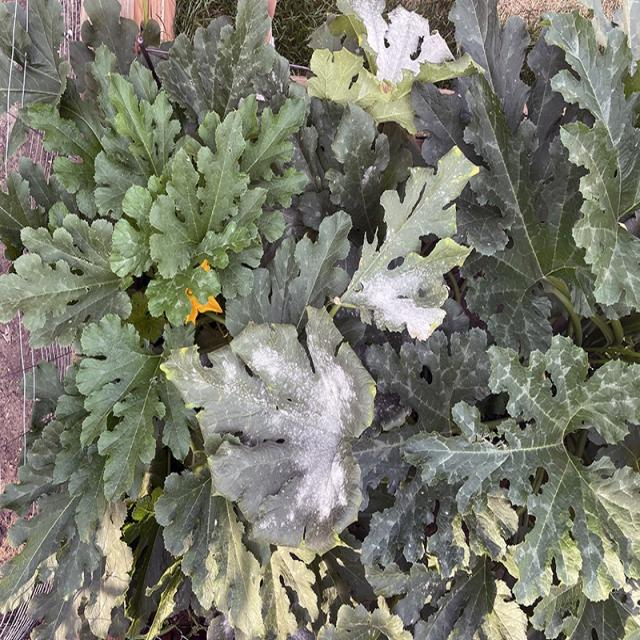Powdery Mildew: (161, 305, 377, 555)
